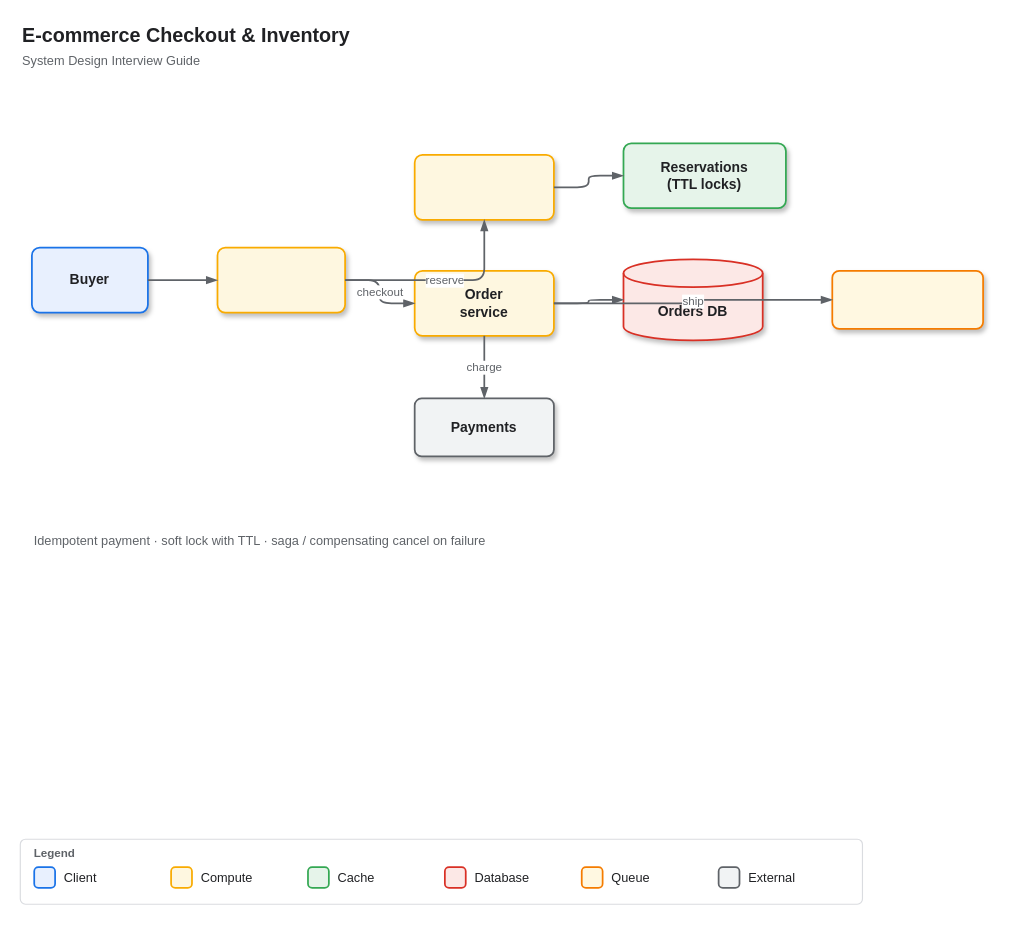
The diagram is 1012 pixels wide and 925 high, and some of its shapes have lost their labels. Each missing label, with the centre of its shape:
"Cart API" goes at (281,281).
"Fulfillment Q" goes at (908,301).
"Inventory service" goes at (485,188).
